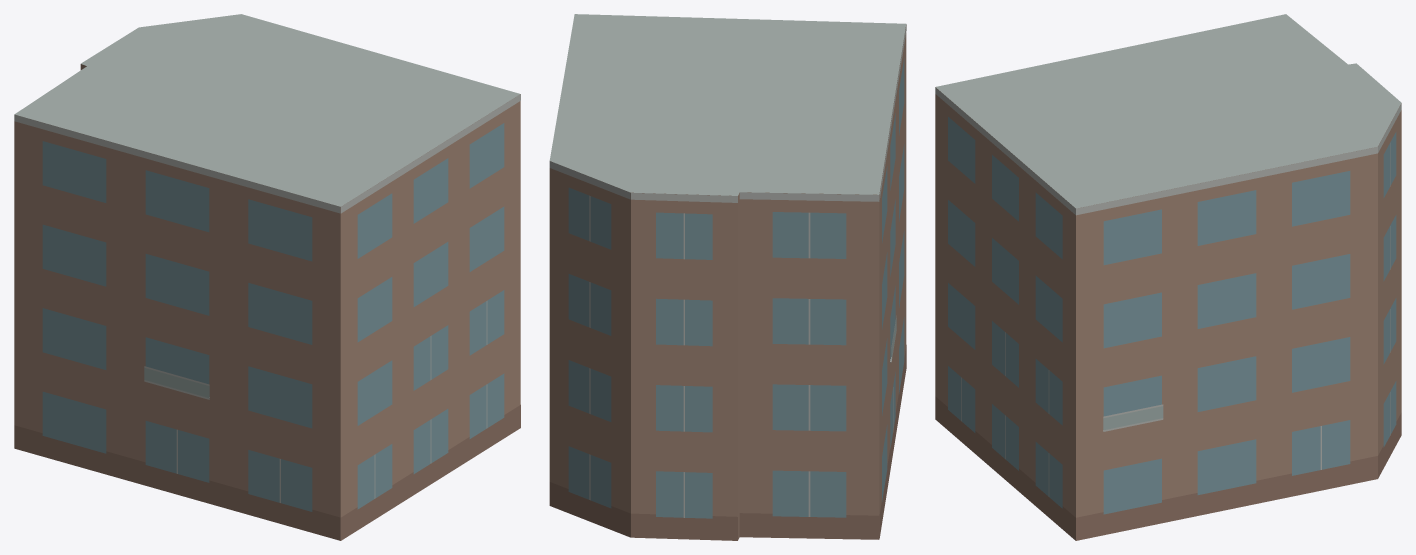
Rendered from survey-upis-32710982.glb.
3 renders of one model, left to right at view 1: azimuth 30°, elevation 25°; view 2: azimuth 150°, elevation 25°; view 3: azimuth 270°, elevation 25°, orthographic. The views are drawn at different scales.
Visible parts, largest first — view 1: survey-upis-32710982.tmp; view 2: survey-upis-32710982.tmp; view 3: survey-upis-32710982.tmp.
Part boxes in pixels (x1,y1,x2,y2): survey-upis-32710982.tmp: [14, 14, 520, 540]; survey-upis-32710982.tmp: [549, 14, 906, 540]; survey-upis-32710982.tmp: [935, 14, 1401, 540].
Bounding box in the file's own units: 15.08 × 12 × 15.27.
